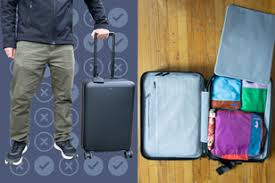suitcase: (138, 67, 275, 164), (78, 33, 136, 154)
